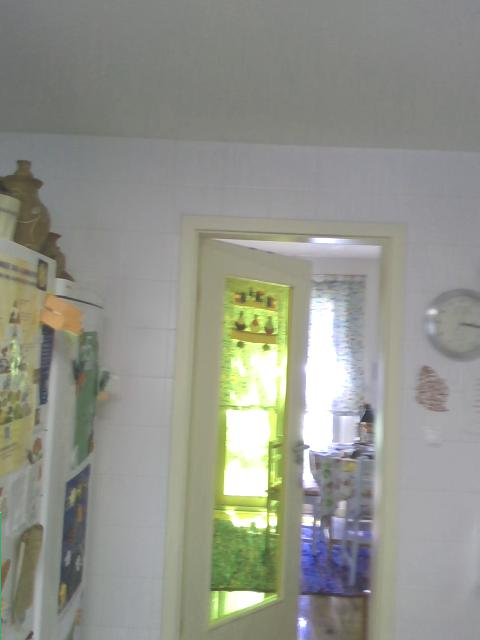semi_door: (161, 212, 405, 639)
